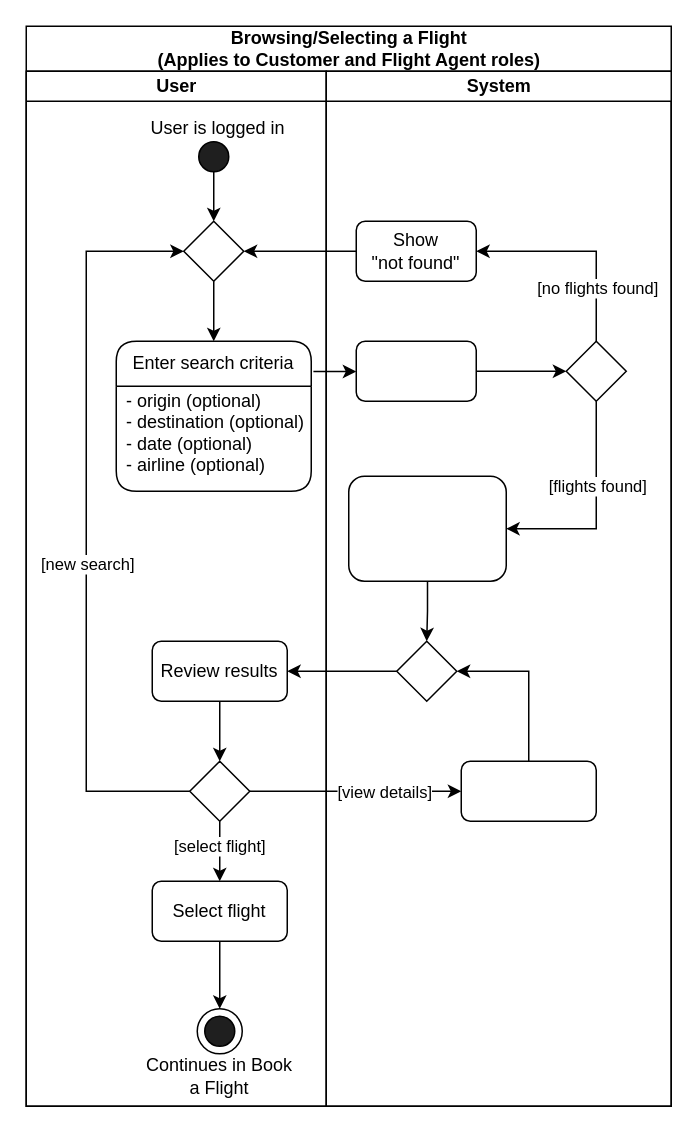
This 698x1133 diagram has some shape labels left out. Here are the shapes that lost their labels. From the top down, the centre of each, then its label:
At (x=415, y=370): "Search flights".
At (x=426, y=528): "Display matching flights (future flights only)".
At (x=528, y=790): "Show flight details".
